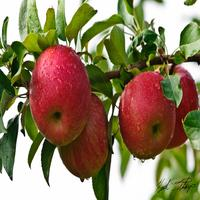apple: (24, 42, 93, 146), (117, 70, 177, 159)
